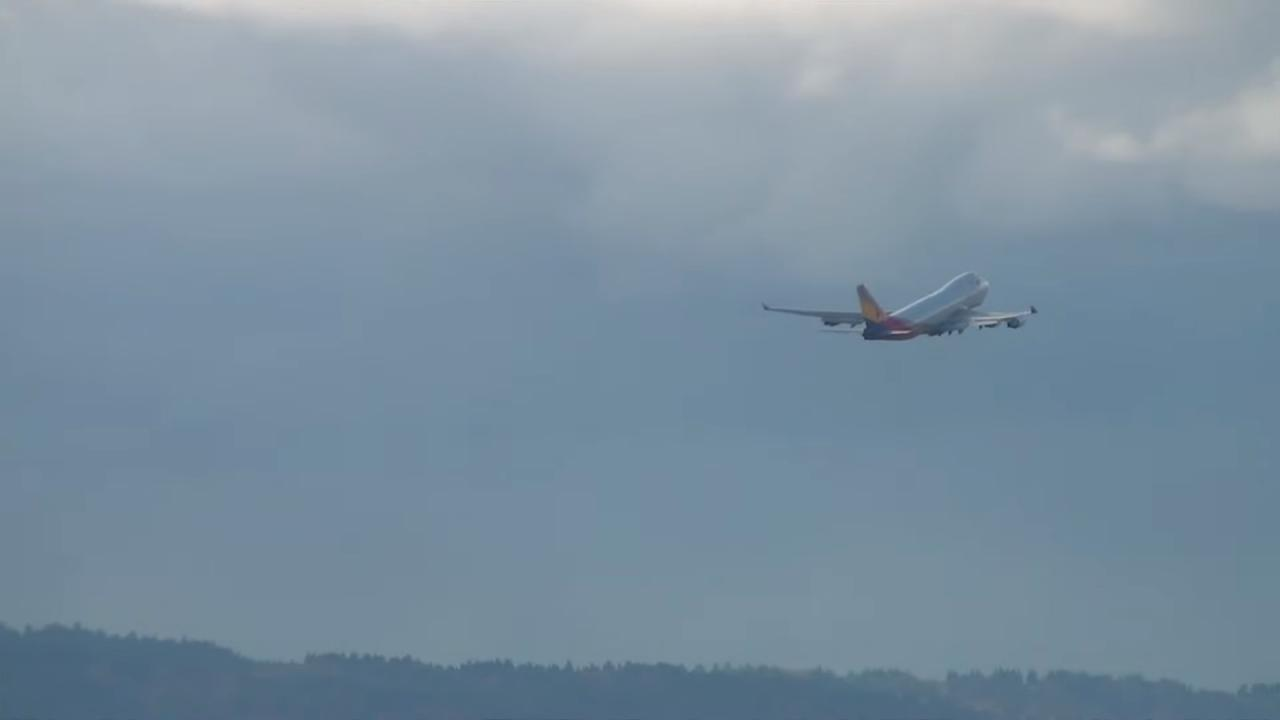Airplane: (754, 252, 1052, 357)
